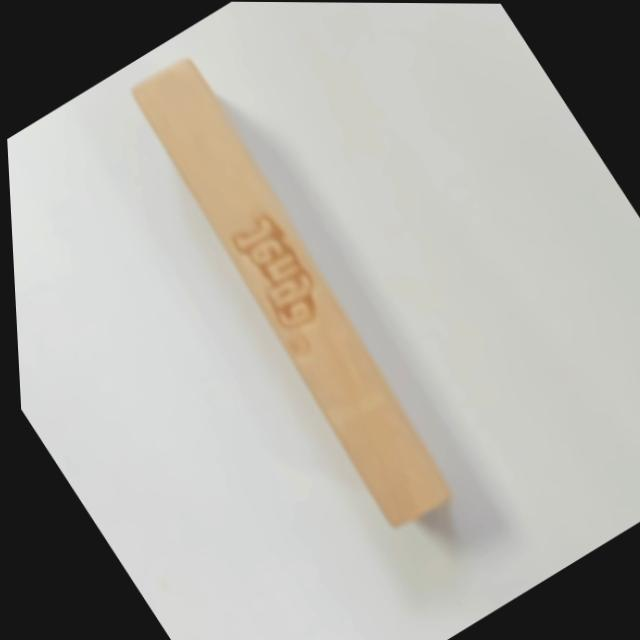Jenga: (108, 51, 473, 538)
